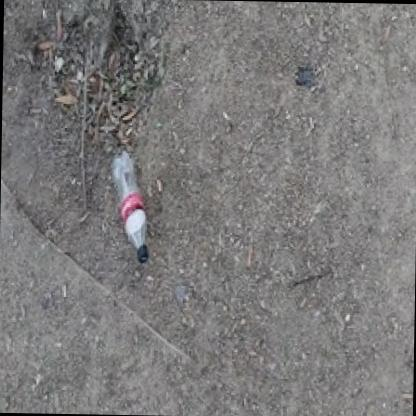plastic_bottles: (105, 146, 159, 271)
